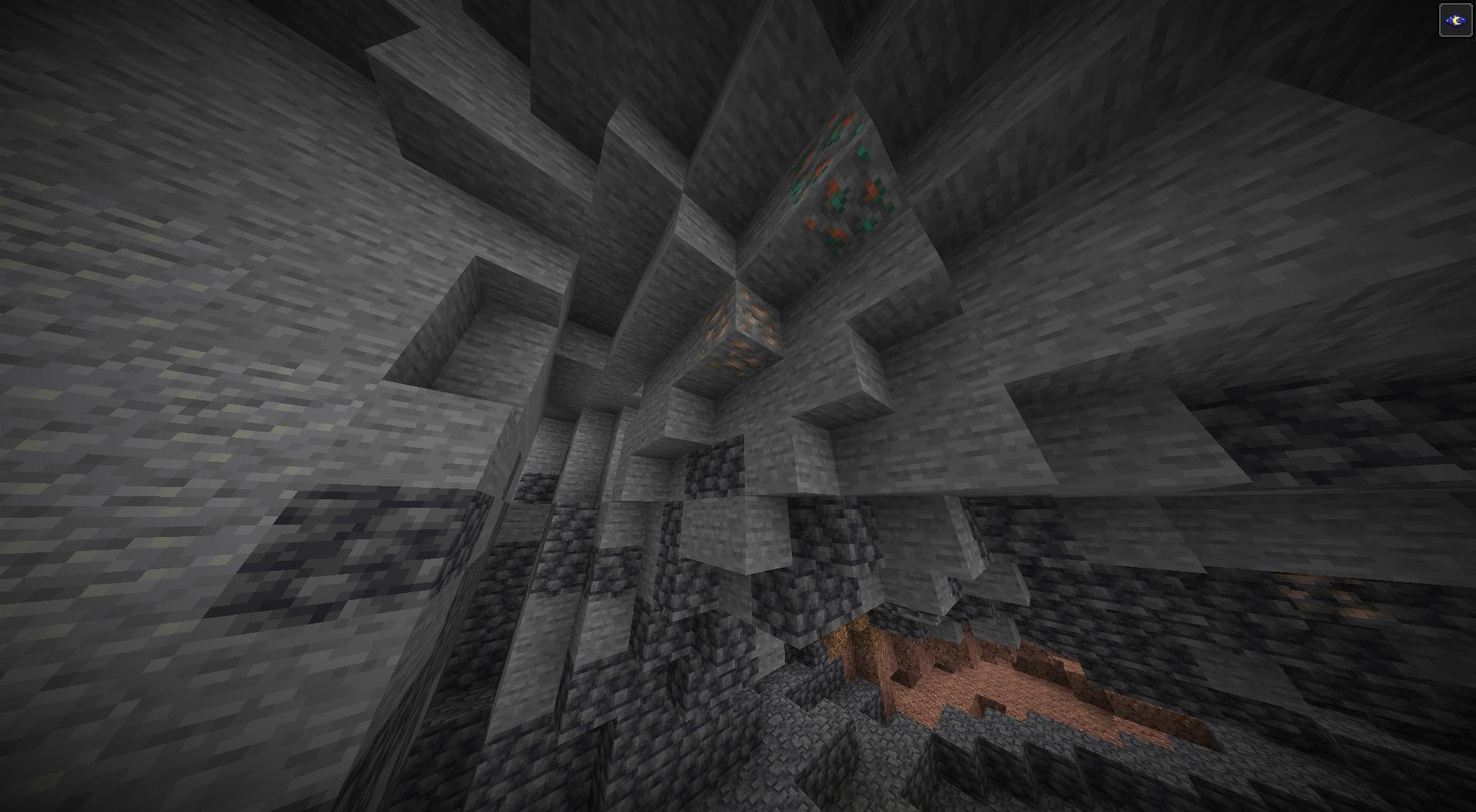iron ore: (1271, 560, 1379, 631), (700, 290, 783, 369)
